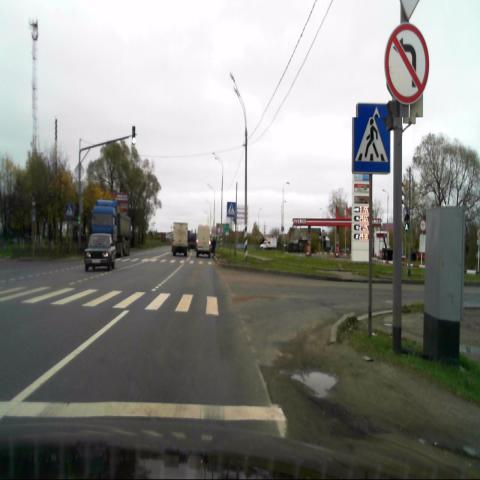3_18_2: (384, 23, 429, 106)
5_19_1: (227, 202, 235, 218)
